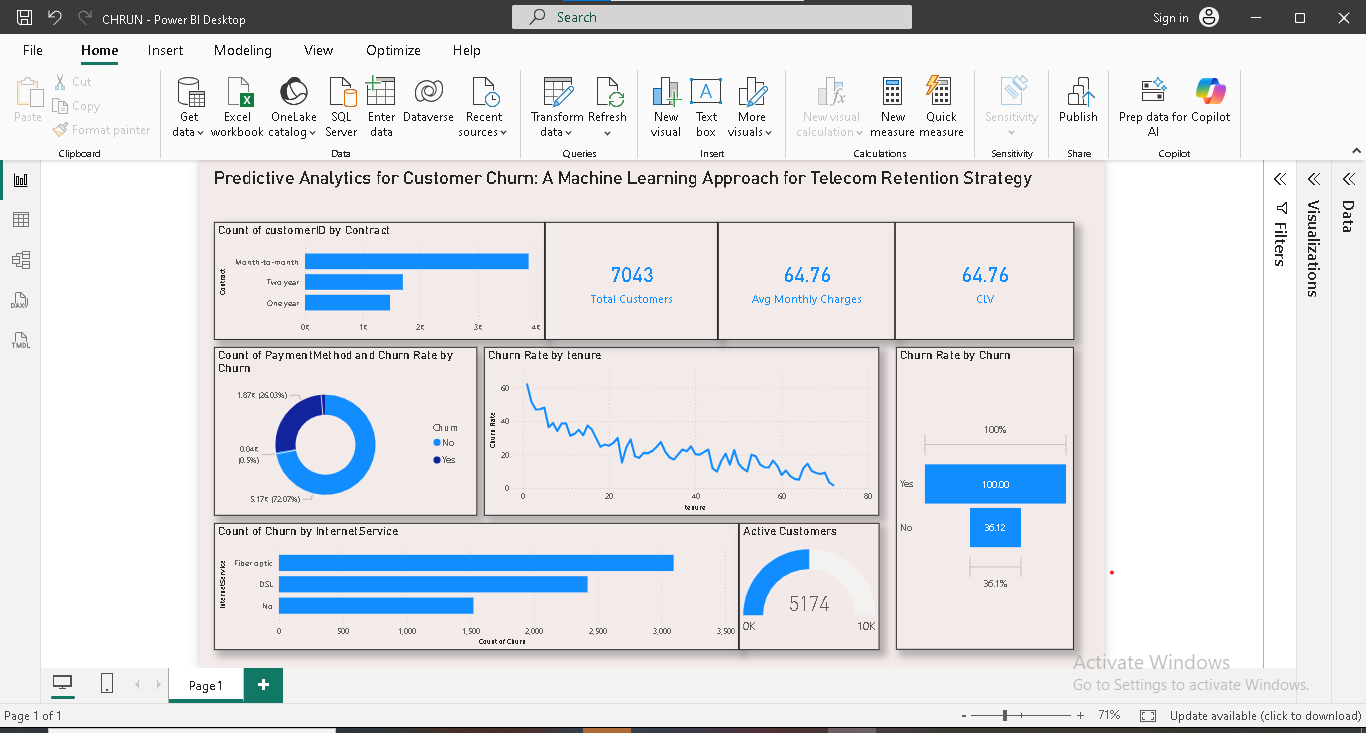

The page's visual inventory and layout, read from the dashboard file:
{"tool":"powerbi","page":{"name":"Page 1","canvas":[1280,720],"ordinal":0},"visuals":[{"type":"barChart","fields":{"Category":["Chrun.Contract"],"Y":["CountNonNull(Chrun.customerID)"]},"box":[19.8,87.9,469.1,167.2],"z":0},{"type":"donutChart","fields":{"Y":["CountNonNull(Chrun.PaymentMethod)","Chrun.Churn Rate"],"Category":["Chrun.Churn"]},"box":[20.2,265,373,239],"z":1000},{"type":"lineChart","fields":{"Category":["Chrun.tenure"],"Y":["Chrun.Churn Rate"]},"box":[403.2,265,560.2,239],"z":2000},{"type":"clusteredBarChart","fields":{"Category":["Chrun.InternetService"],"Y":["CountNonNull(Chrun.Churn)"]},"box":[20.2,514.1,744.5,180],"z":3000},{"type":"card","fields":{"Values":["Chrun.Total Customers"]},"box":[489,87.9,245.2,167.2],"z":4000},{"type":"card","fields":{"Values":["Chrun.Avg Monthly Charges"]},"box":[734.2,87.9,250.9,167.2],"z":5000},{"type":"card","fields":{"Values":["Chrun.CLV"]},"box":[985,87.9,253.7,167.2],"z":6000},{"type":"shape","title":"Predictive Analytics for Customer Churn: A Machine Learning Approach for Telecom Retention Strategy","box":[20.2,10.1,1241.3,47.5],"z":7000},{"type":"funnel","fields":{"Y":["Chrun.Churn Rate"],"Category":["Chrun.Churn"]},"box":[986.4,265,252,429.1],"z":8000},{"type":"gauge","fields":{"Y":["Chrun.Active Customers"]},"box":[764,514,199,180],"z":8001}]}

Visuals, with their boxes on the page's 1280x720 design canvas (x1, y1, x2, y2). These are canvas units, not pixel positions in the 1366x733 screenshot, which may show the page scaled, cropped or inside an application window:
barChart - Chrun.Contract x CountNonNull(Chrun.customerID): x1=20, y1=88, x2=489, y2=255
donutChart - CountNonNull(Chrun.PaymentMethod) x Chrun.Churn Rate: x1=20, y1=265, x2=393, y2=504
lineChart - Chrun.tenure x Chrun.Churn Rate: x1=403, y1=265, x2=963, y2=504
clusteredBarChart - Chrun.InternetService x CountNonNull(Chrun.Churn): x1=20, y1=514, x2=765, y2=694
card - Chrun.Total Customers: x1=489, y1=88, x2=734, y2=255
card - Chrun.Avg Monthly Charges: x1=734, y1=88, x2=985, y2=255
card - Chrun.CLV: x1=985, y1=88, x2=1239, y2=255
"Predictive Analytics for Customer Churn: A Machine Learning Approach for Telecom Retention Strategy" shape: x1=20, y1=10, x2=1262, y2=58
funnel - Chrun.Churn Rate x Chrun.Churn: x1=986, y1=265, x2=1238, y2=694
gauge - Chrun.Active Customers: x1=764, y1=514, x2=963, y2=694
